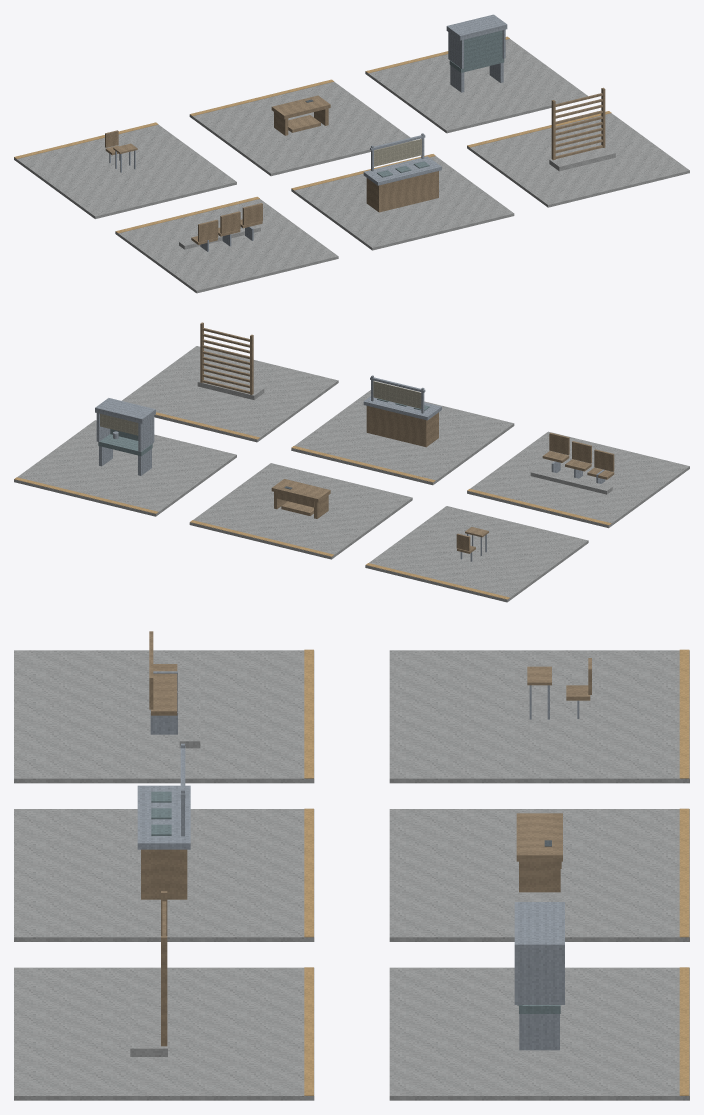
The model's file is level_blockout_kit_school_p01.glb.
3 renders of one model, top to bottom at view 1: azimuth 30°, elevation 25°; view 2: azimuth 150°, elevation 25°; view 3: azimuth 270°, elevation 25°, orthographic. The views are drawn at different scales.
Visible parts, largest first — view 1: level_blockout_kit_school_p01; view 2: level_blockout_kit_school_p01; view 3: level_blockout_kit_school_p01.
Part boxes in pixels (bbox=[...]): level_blockout_kit_school_p01: bbox=[14, 14, 689, 293]; level_blockout_kit_school_p01: bbox=[14, 322, 689, 602]; level_blockout_kit_school_p01: bbox=[14, 631, 689, 1100].
Bounding box in the file's own units: 19.65 × 2.51 × 12.6.
7 materials, 7 textured.
